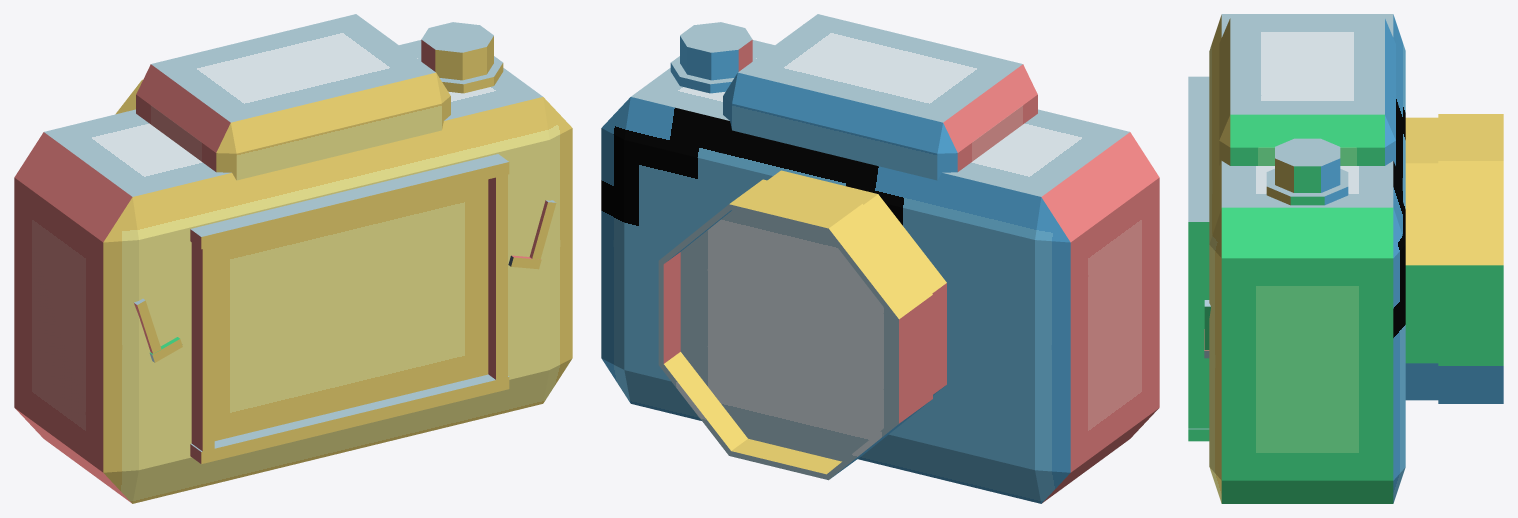
File: camera.gltf
The picture shows the model from 3 angles, left to right: view 1: azimuth 30°, elevation 25°; view 2: azimuth 150°, elevation 25°; view 3: azimuth 270°, elevation 25°; orthographic projection. The views are drawn at different scales.
Visible parts, largest first — view 1: beveled_cuboid (×2), camera, cylinder (×2); view 2: beveled_cuboid (×2), cylinder (×3), tube; view 3: beveled_cuboid (×2), tube, cylinder (×3), camera.
Part boxes in pixels (x1,y1,x2,y2): beveled_cuboid (×2): [14, 14, 572, 503]; camera: [134, 154, 556, 463]; cylinder (×2): [418, 22, 503, 93]; beveled_cuboid (×2): [601, 14, 1159, 503]; cylinder (×3): [670, 22, 946, 461]; tube: [658, 179, 932, 480]; beveled_cuboid (×2): [1209, 14, 1405, 503]; tube: [1438, 114, 1503, 403]; cylinder (×3): [1266, 117, 1438, 400]; camera: [1188, 76, 1210, 441].
Bounding box in the file's own units: 1 × 0.7188 × 0.6031.
1 material, 1 textured.
